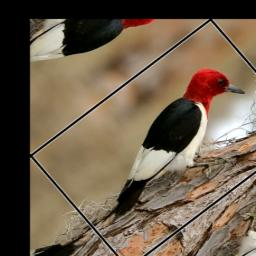Woodpecker: (62, 54, 256, 245)
